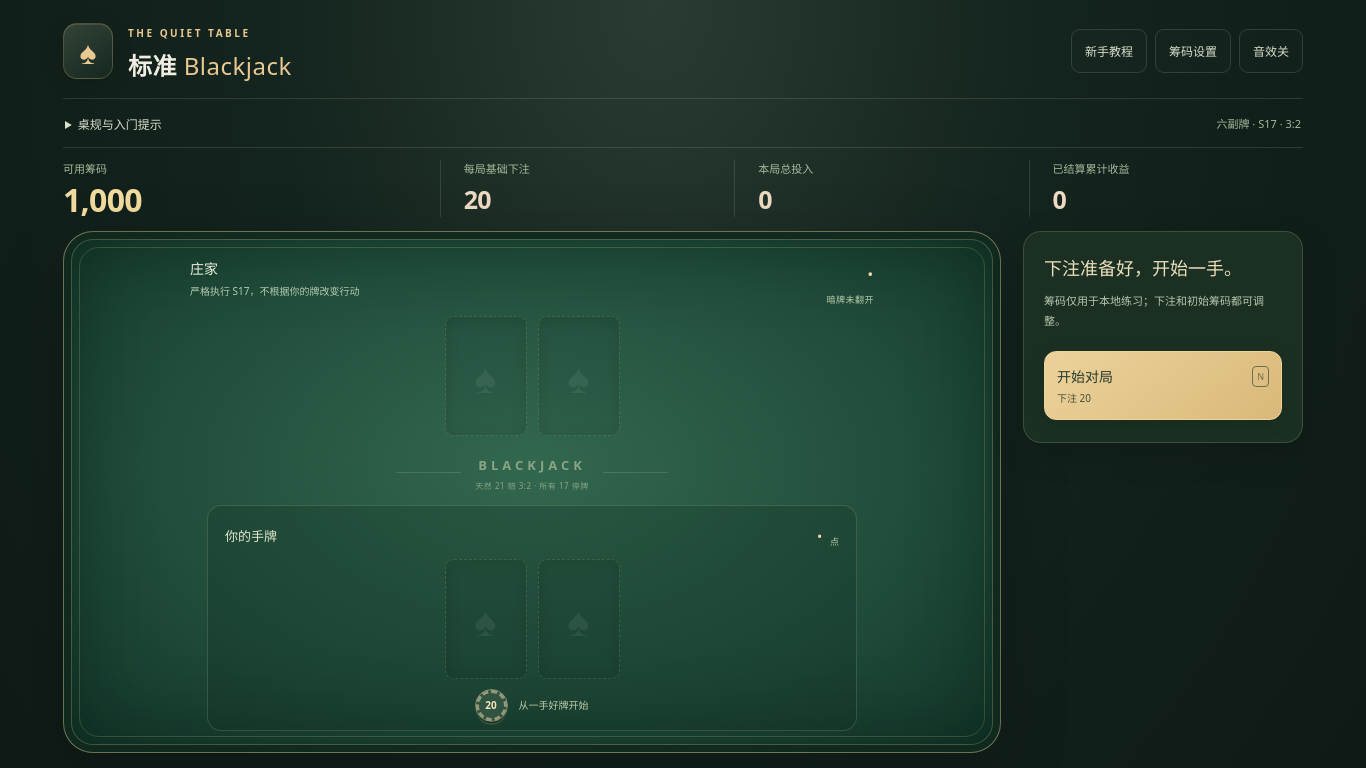
standard table controls and local training data › pauses background dealing and restores it explicitly without losing a wager
Click the button "开始对局 下注 20 N" at point(1163, 385), box [1044,351,1282,420]
Wait 8000 ms
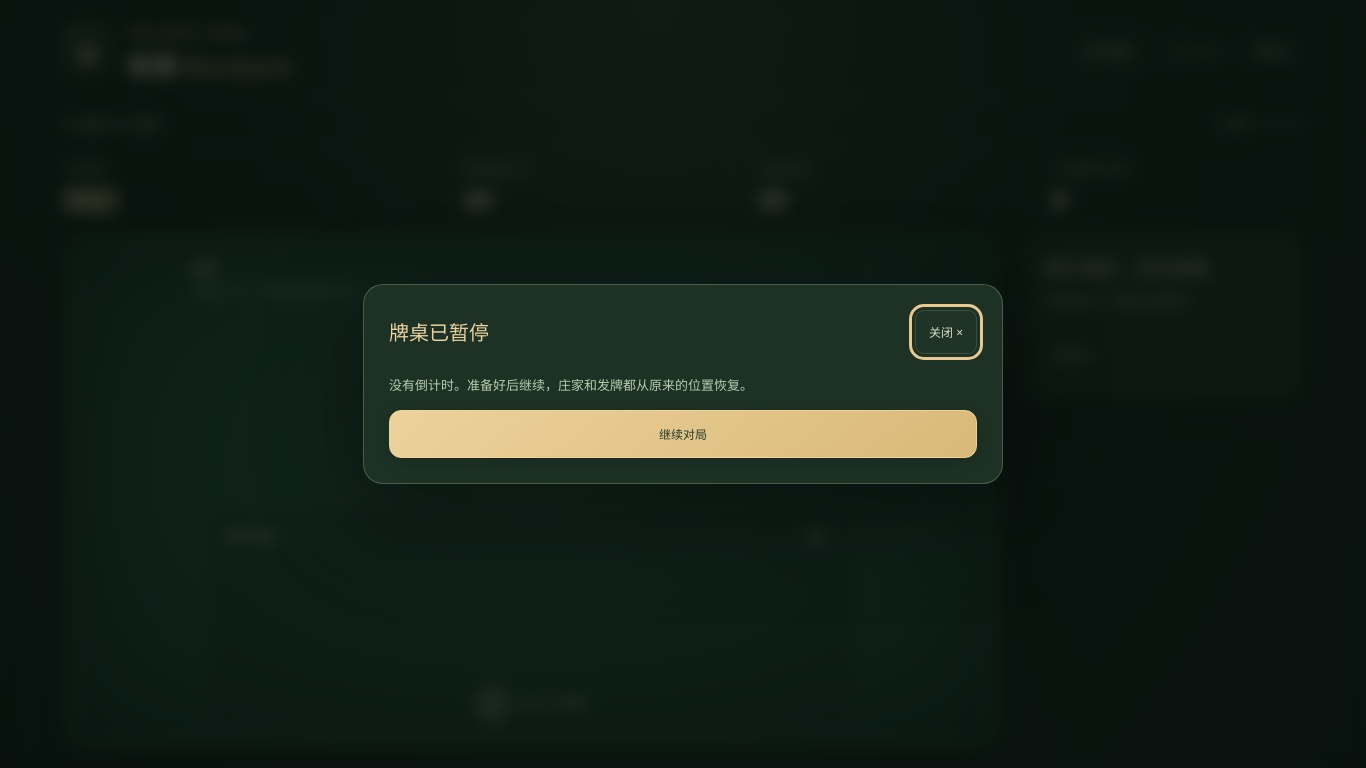
Expected: the dialog "牌桌已暂停" is shown, [363,284,1003,484]
Click the button "继续对局" at point(683, 434), box [389,410,977,458]
Wait 1800 ms
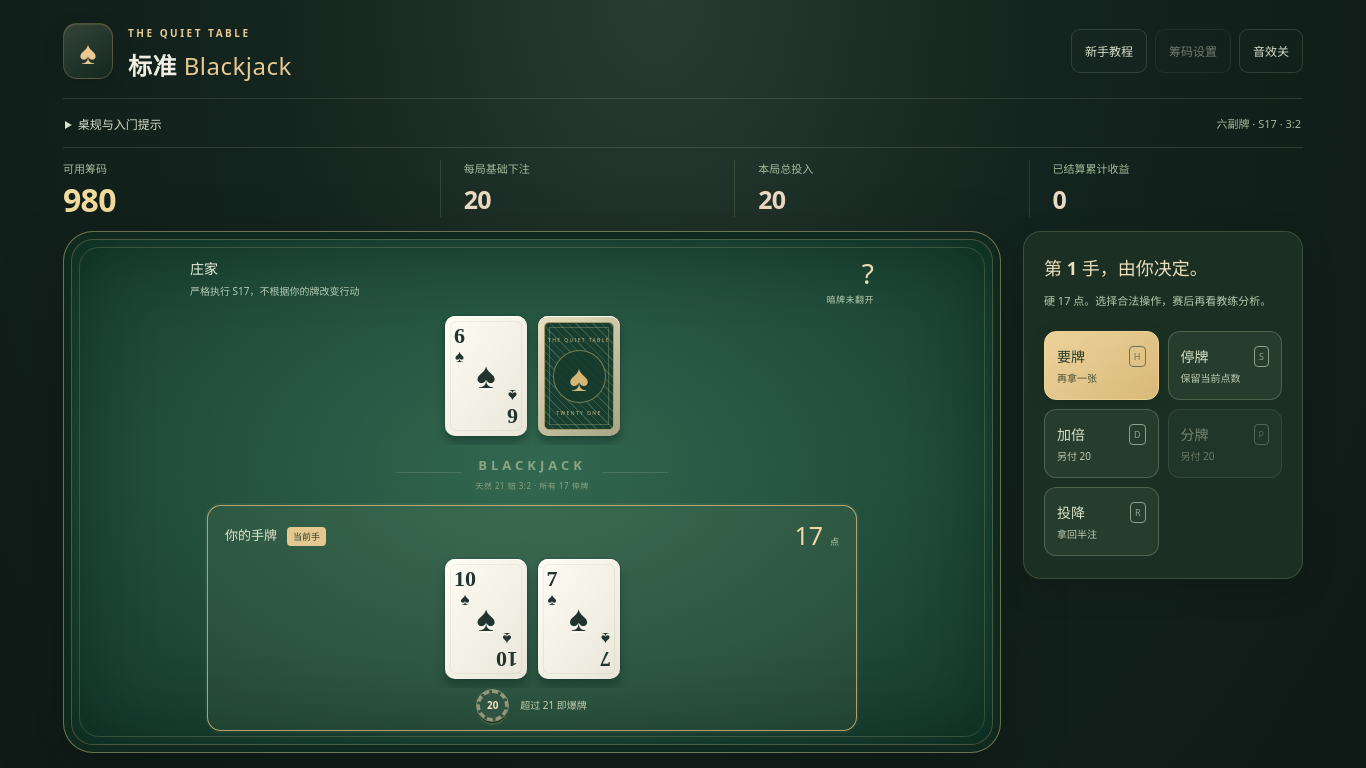
Expected: the number of pictures is 4, [444,316,526,436]; [538,316,620,436]; [444,559,526,679]; [538,559,620,679]
